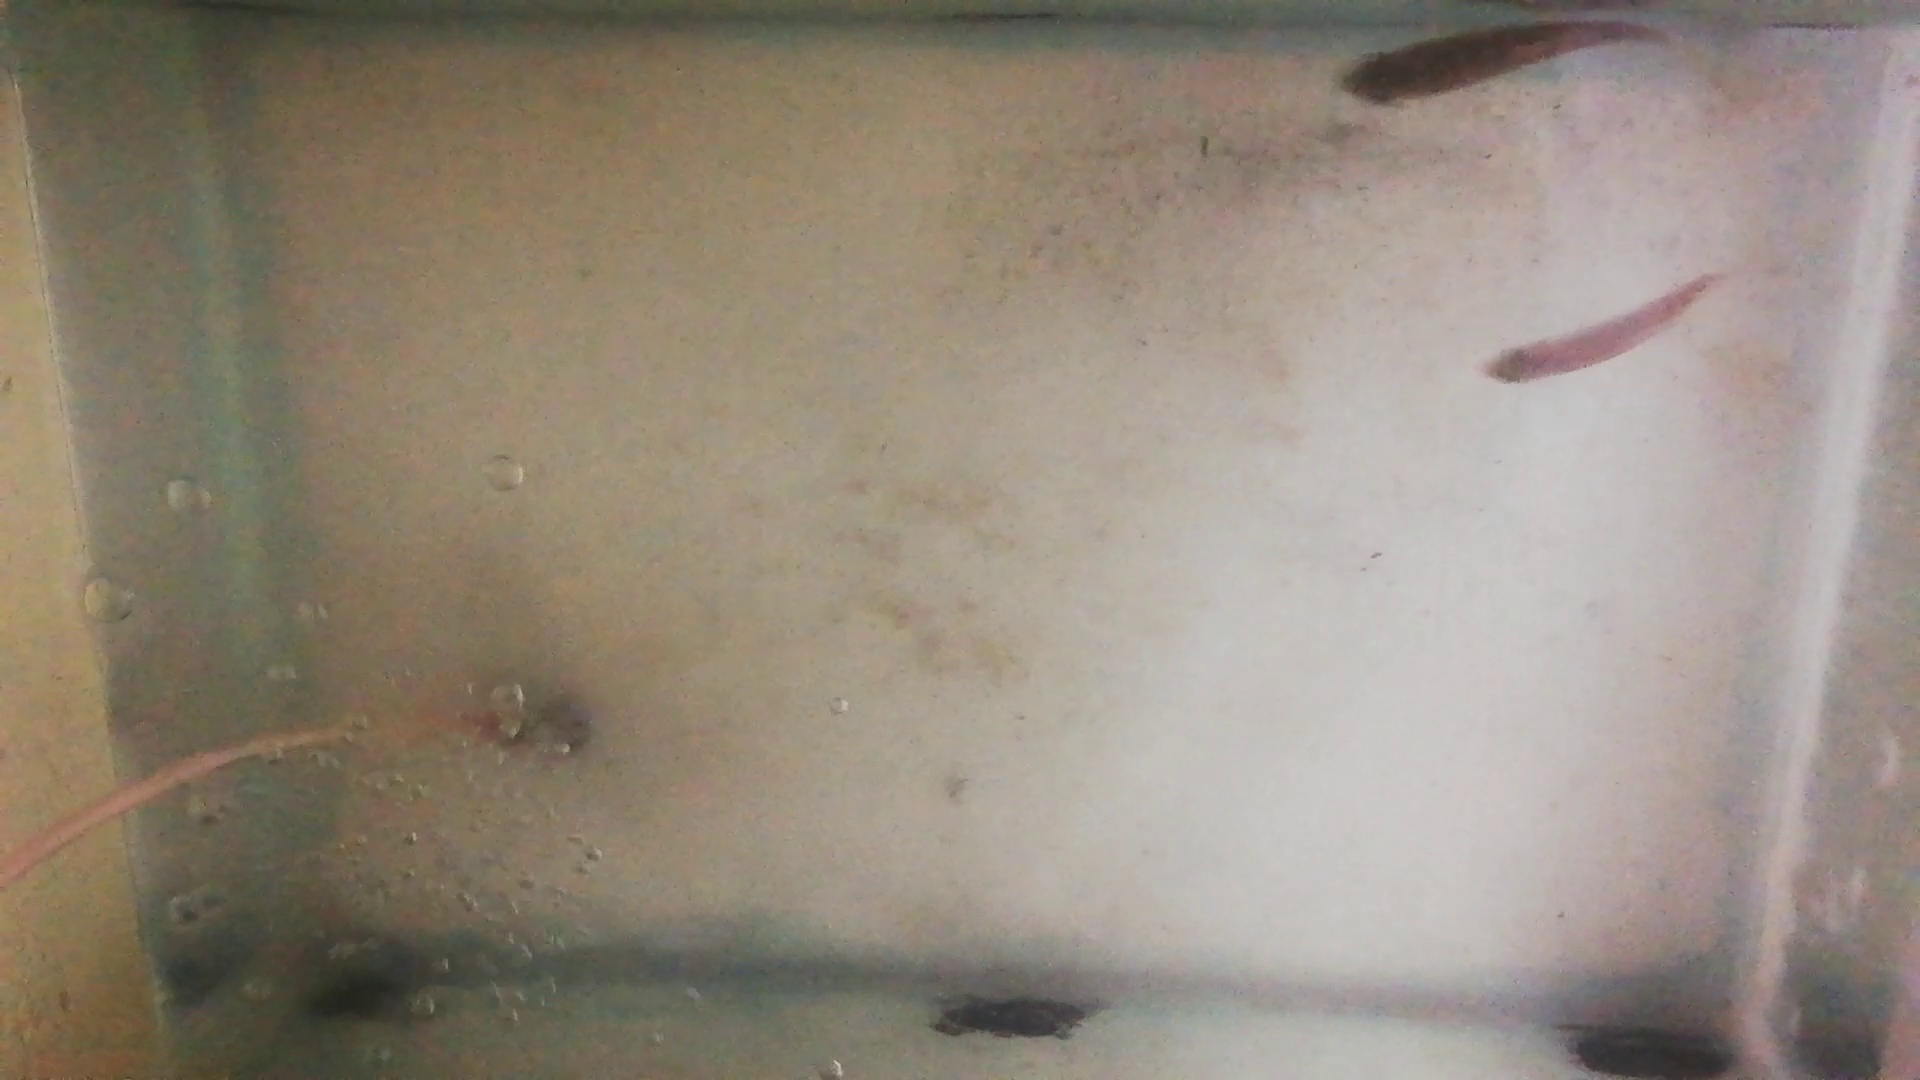fish: (1337, 21, 1664, 105), (1484, 273, 1713, 386)
